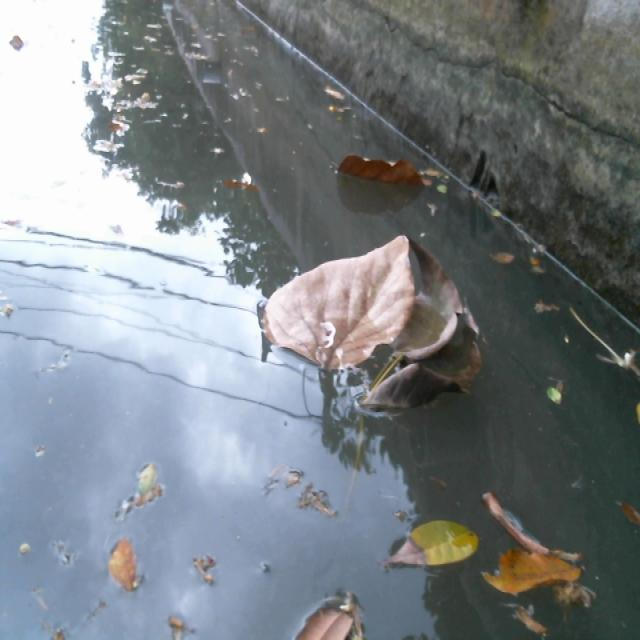Big-leaf: (258, 216, 490, 432), (483, 485, 595, 622), (319, 130, 437, 200)
Small-leaf: (386, 517, 488, 577), (289, 595, 369, 640), (98, 525, 145, 592), (315, 78, 353, 119), (218, 173, 270, 193), (532, 359, 557, 398), (495, 243, 522, 269), (622, 495, 640, 531)
